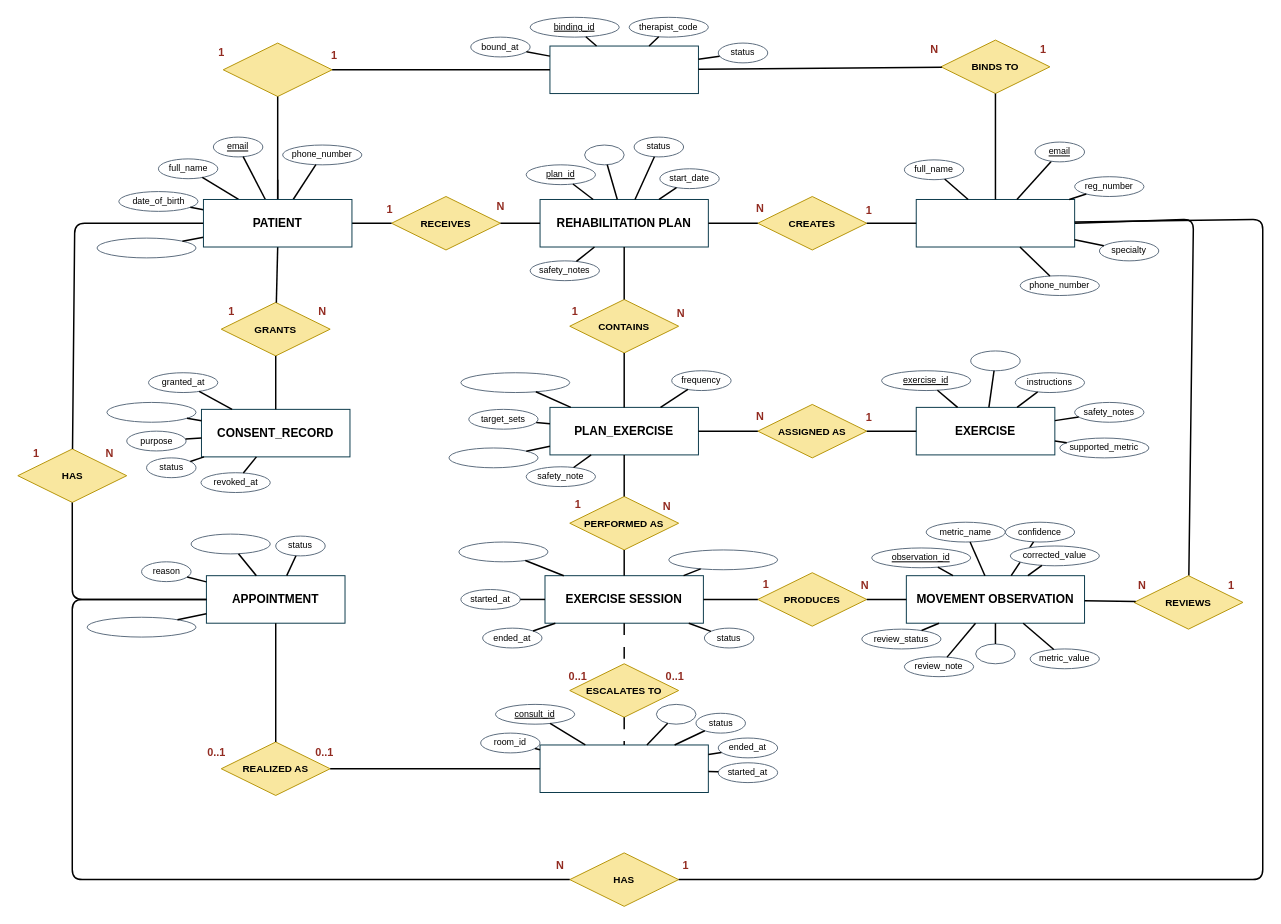
This 1281x924 diagram has some shape labels left out. Here are the shapes that lost their labels. From the top down, the centre of each, then its label:
At [277,69]: "BOUND TO".
At [623,69]: "CLINIC_BINDING".
At [604,154]: "title".
At [995,222]: "PHYSIOTHERAPIST".
At [146,247]: "emergency_contact".
At [995,360]: "name".
At [515,382]: "plan_exercise_id".
At [151,411]: "consent_id".
At [493,457]: "target_repetitions".
At [230,543]: "scheduled_at".
At [503,551]: "session_id".
At [723,559]: "completed_repetitions".
At [141,626]: "appointment_id".
At [995,653]: "unit".
At [675,713]: "kind".
At [623,768]: "VIDEO_CONSULTATION".
